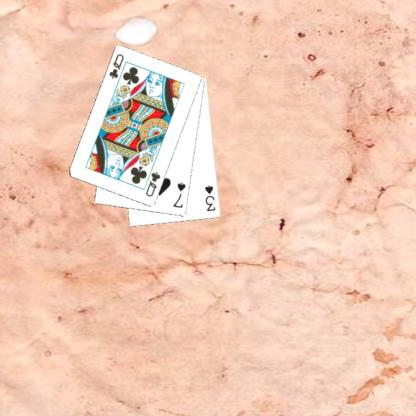3S: (202, 183, 217, 213)
7S: (171, 179, 187, 210)
QC: (107, 51, 126, 80), (143, 170, 162, 198)
